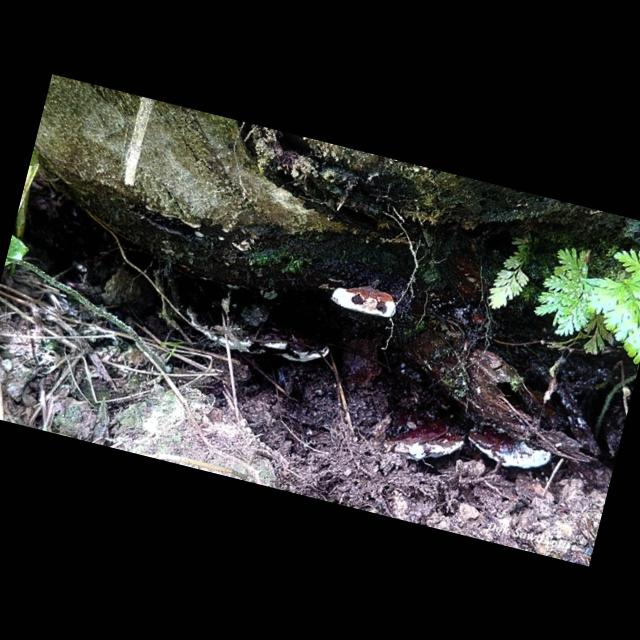ganoderma: (379, 407, 471, 475), (463, 420, 559, 477), (254, 321, 337, 372), (328, 281, 401, 324)
